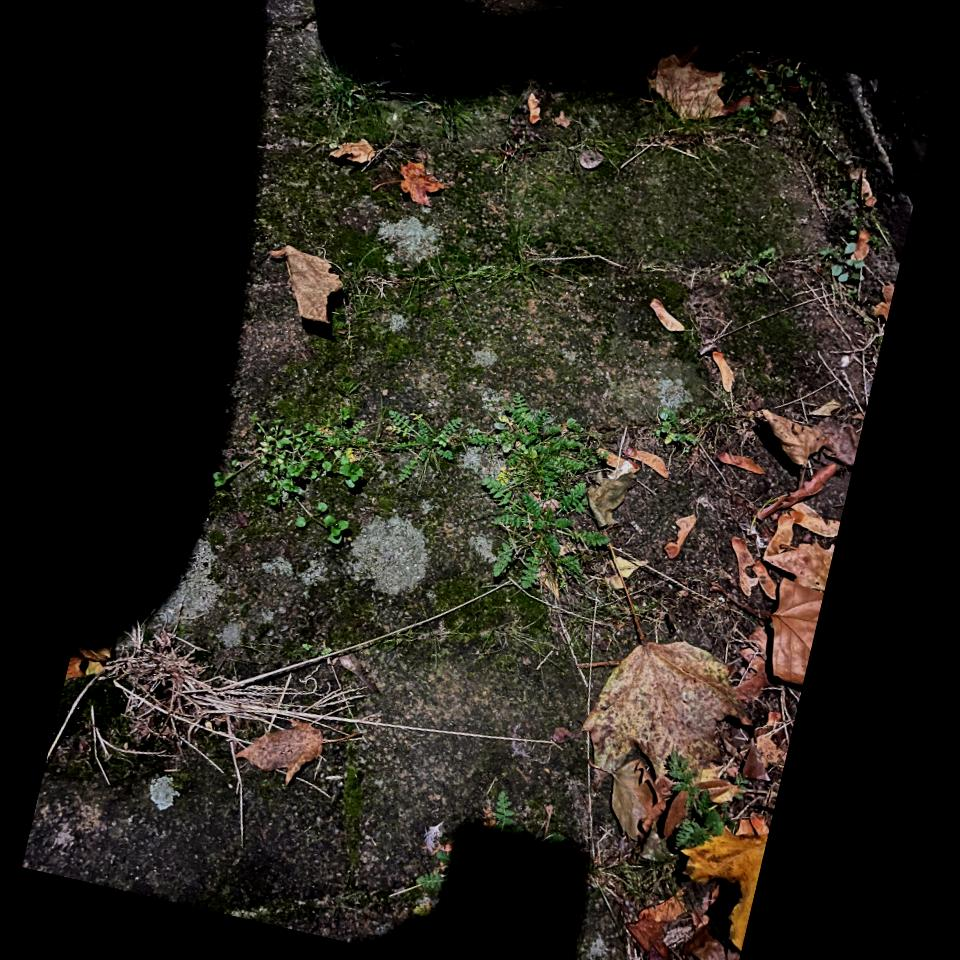weed: (369, 791, 585, 960), (252, 406, 462, 544), (483, 394, 607, 586), (676, 785, 724, 850), (654, 408, 704, 451)
